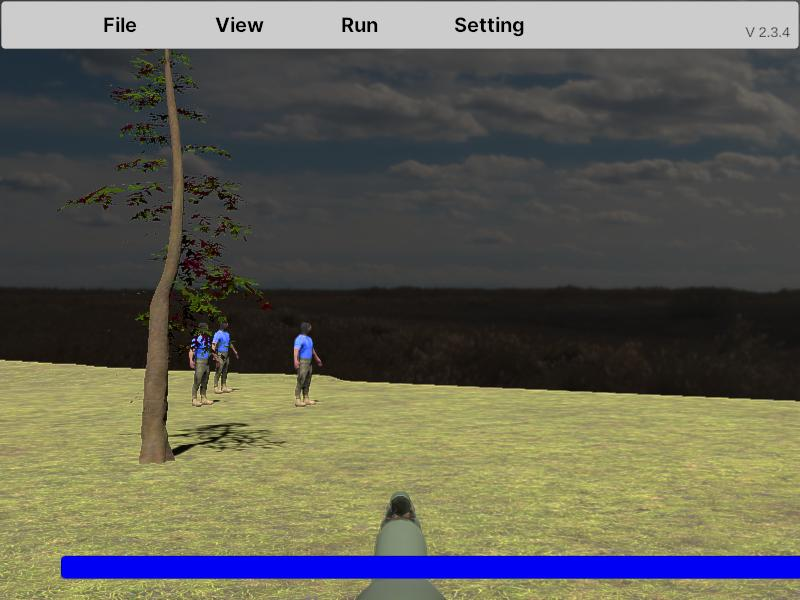Human: (190, 322, 220, 406), (293, 321, 322, 407), (212, 318, 239, 393)
